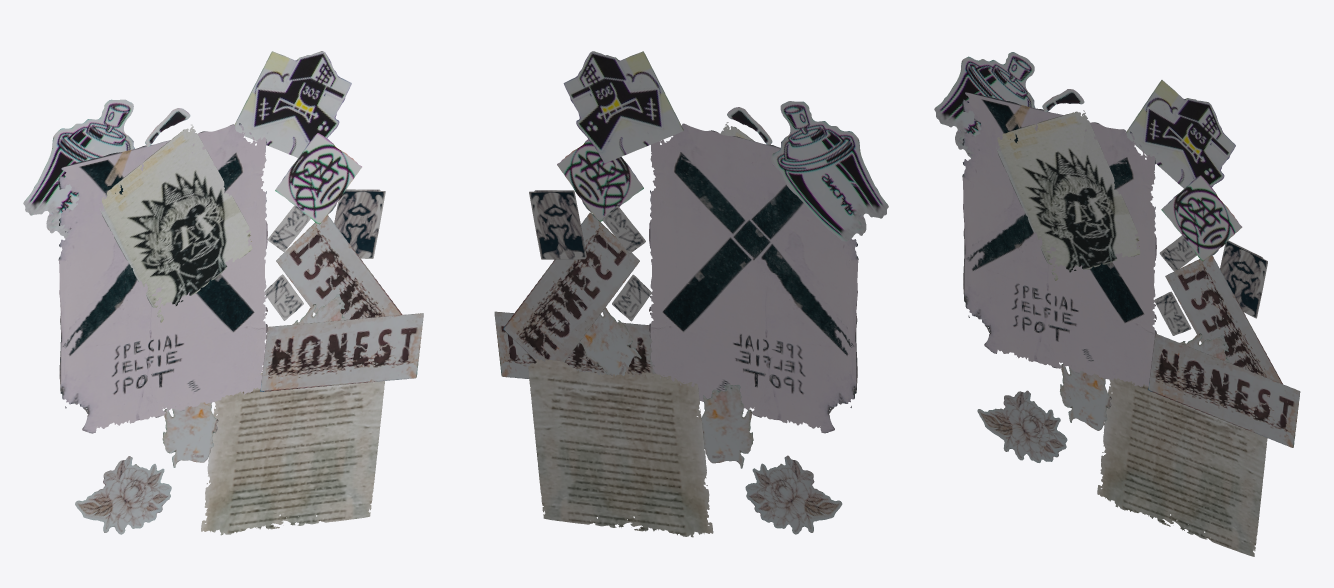
File: StickerSet_1.fbx
3 renders of one model, left to right at view 1: azimuth 30°, elevation 25°; view 2: azimuth 150°, elevation 25°; view 3: azimuth 330°, elevation 25°, orthographic. The views are drawn at different scales.
Visible parts, largest first — view 1: StickerSet_1; view 2: StickerSet_1; view 3: StickerSet_1.
Part boxes in pixels (left/top/right/bottom): StickerSet_1: left=23, top=51, right=423, bottom=535; StickerSet_1: left=494, top=51, right=888, bottom=537; StickerSet_1: left=934, top=52, right=1300, bottom=556.
Bounding box in the file's own units: 0.8268 × 0.9988 × 0.0191.
